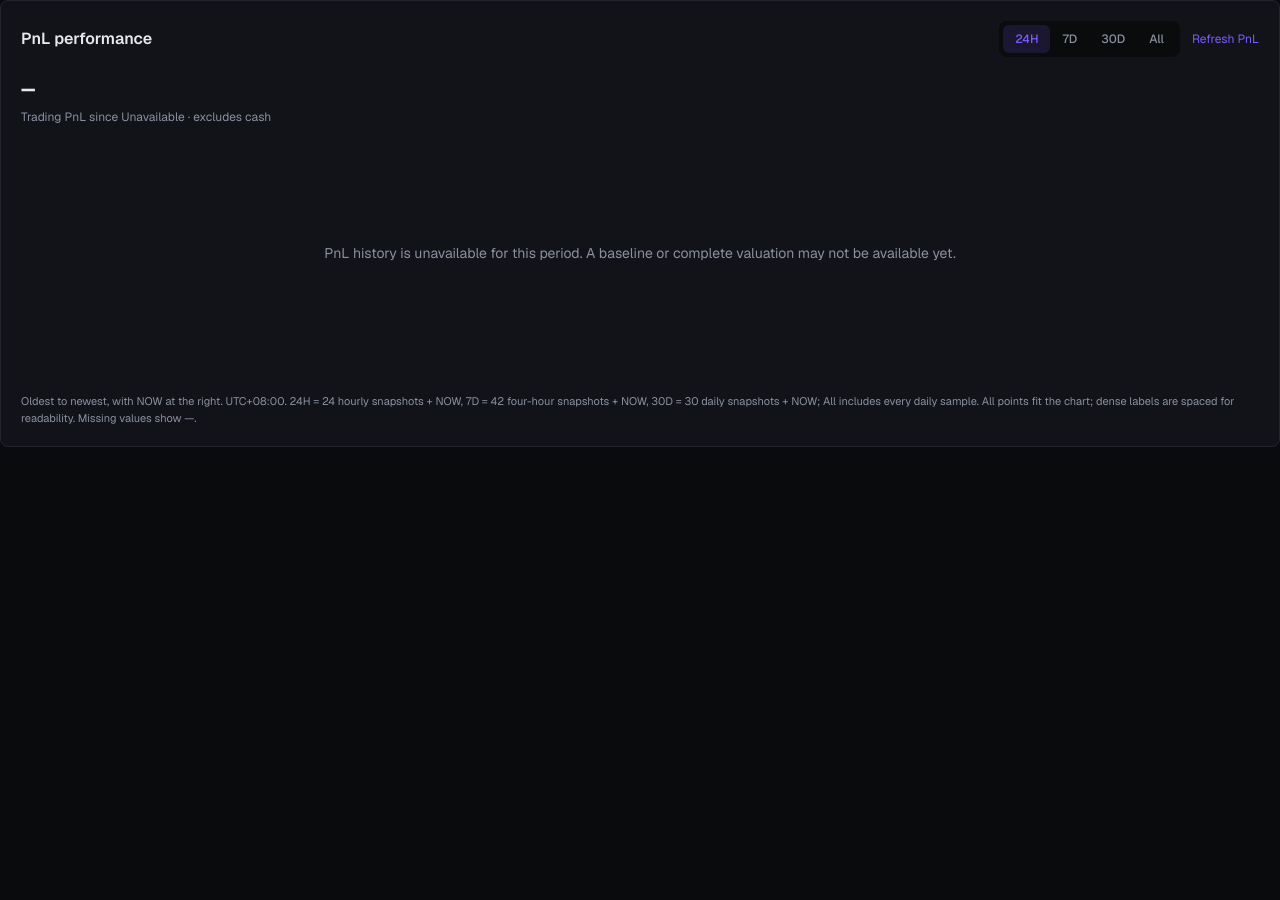
Test: Portfolio PnL chart › uses a fluid SVG without a minimum width or a scrolling chart region
Click the button "All".
click(1157, 39)  # box [1137,25,1176,53]
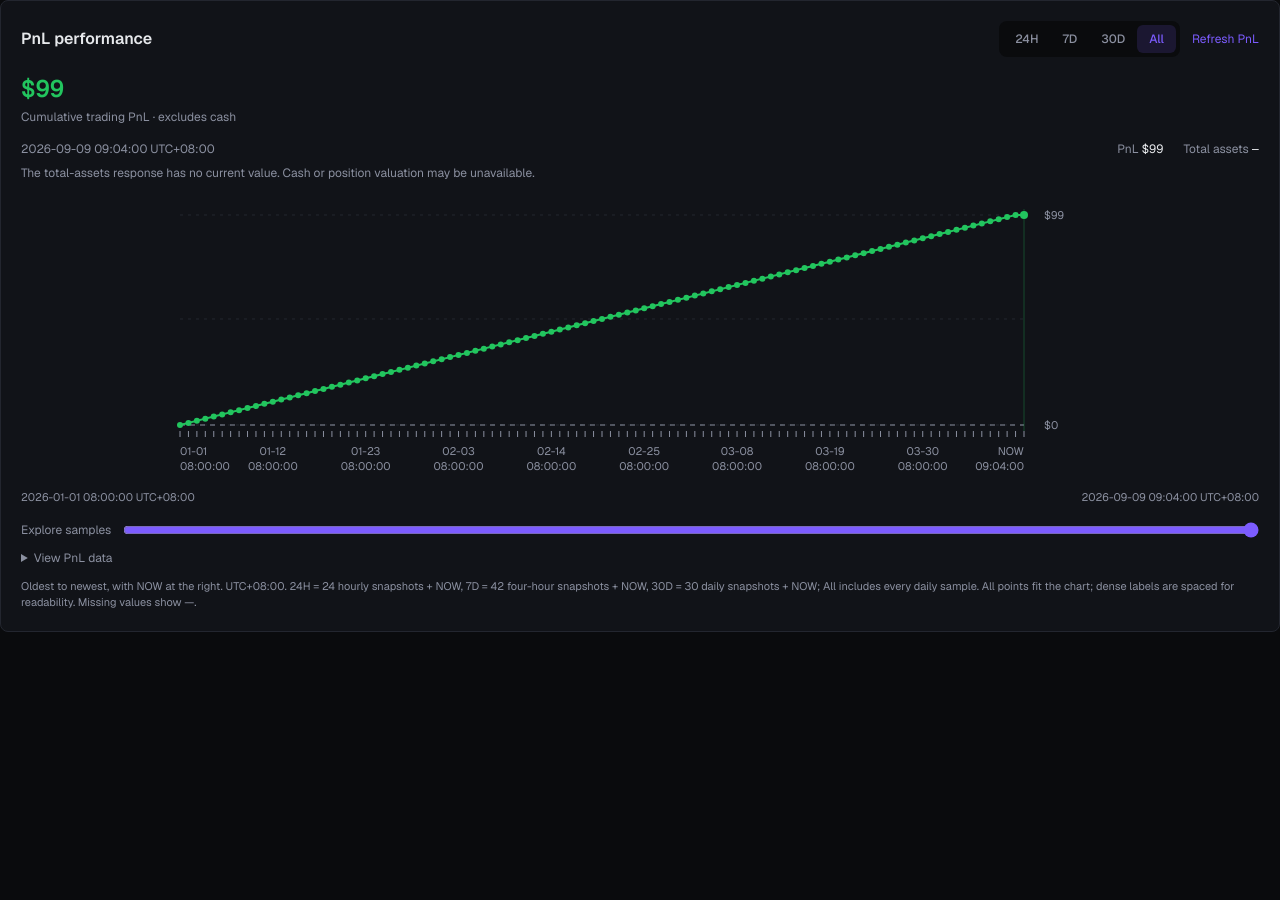
Now the text with test id "pnl-sample" reads "$99", box [1142,141,1163,157]
